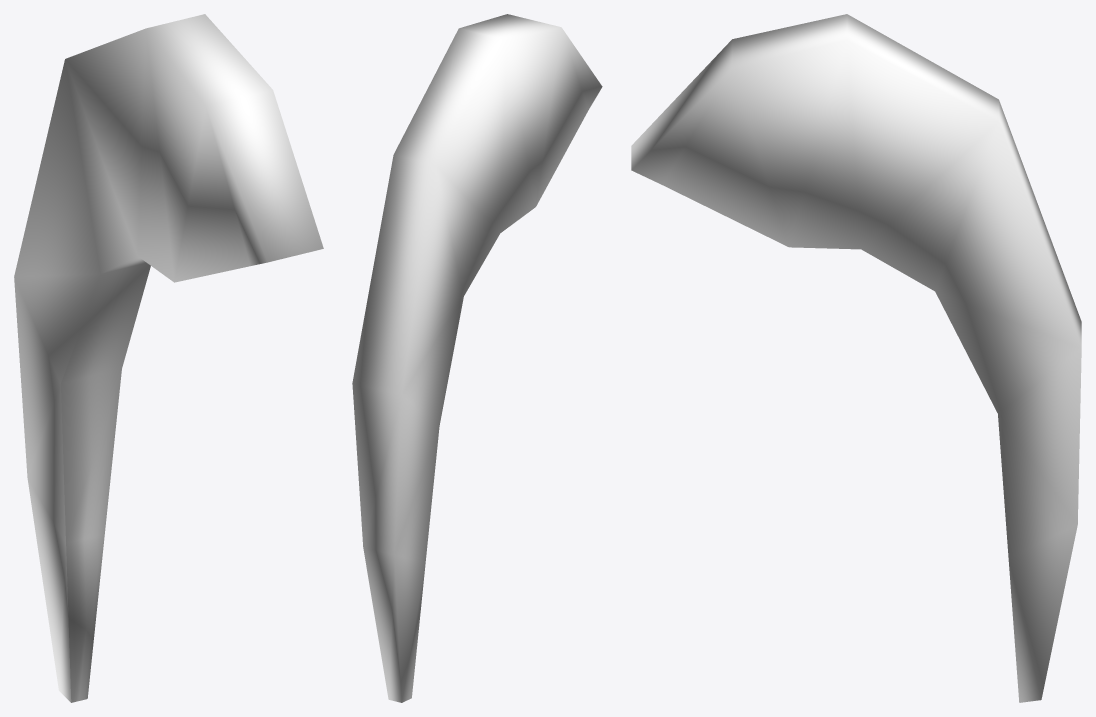
Rendered from hair_lusi_1.dae.
3 views of the same model, side by side, from view 1: azimuth 30°, elevation 25°; view 2: azimuth 150°, elevation 25°; view 3: azimuth 270°, elevation 25° (orthographic). The views are drawn at different scales.
Visible parts, largest first — view 1: hair_lusi_1; view 2: hair_lusi_1; view 3: hair_lusi_1.
Boxes of the visible parts, box(x1,y1,x2,y2) form: hair_lusi_1: box(14, 14, 323, 702); hair_lusi_1: box(352, 14, 602, 702); hair_lusi_1: box(631, 14, 1081, 702).
Size of the model in its own units: 0.1161 by 0.7535 by 1.24.
